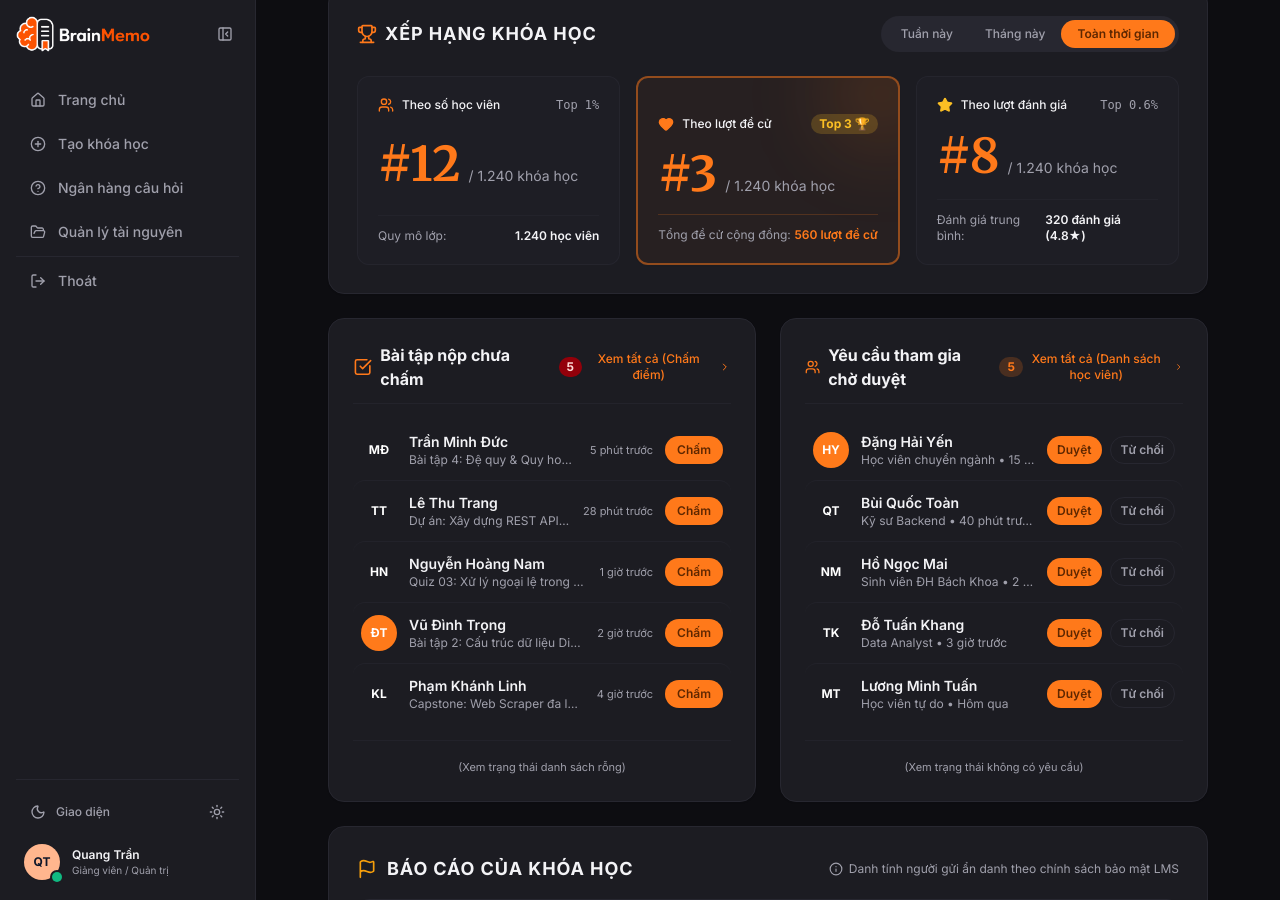
Test: Course Pages (SCR-CRS-01..03) › Course Overview: Tổng quan khóa học (/courses/:courseId/manage) › allows approving an enrollment request
(page scrolled)
Check: the text "Đặng Hải Yến" is shown, box [861, 433, 953, 450]
Click the button "Duyệt" next to "Học viên chuyển ngành • 15 phút trước". click: (1074, 450)
box: [1047, 436, 1102, 464]
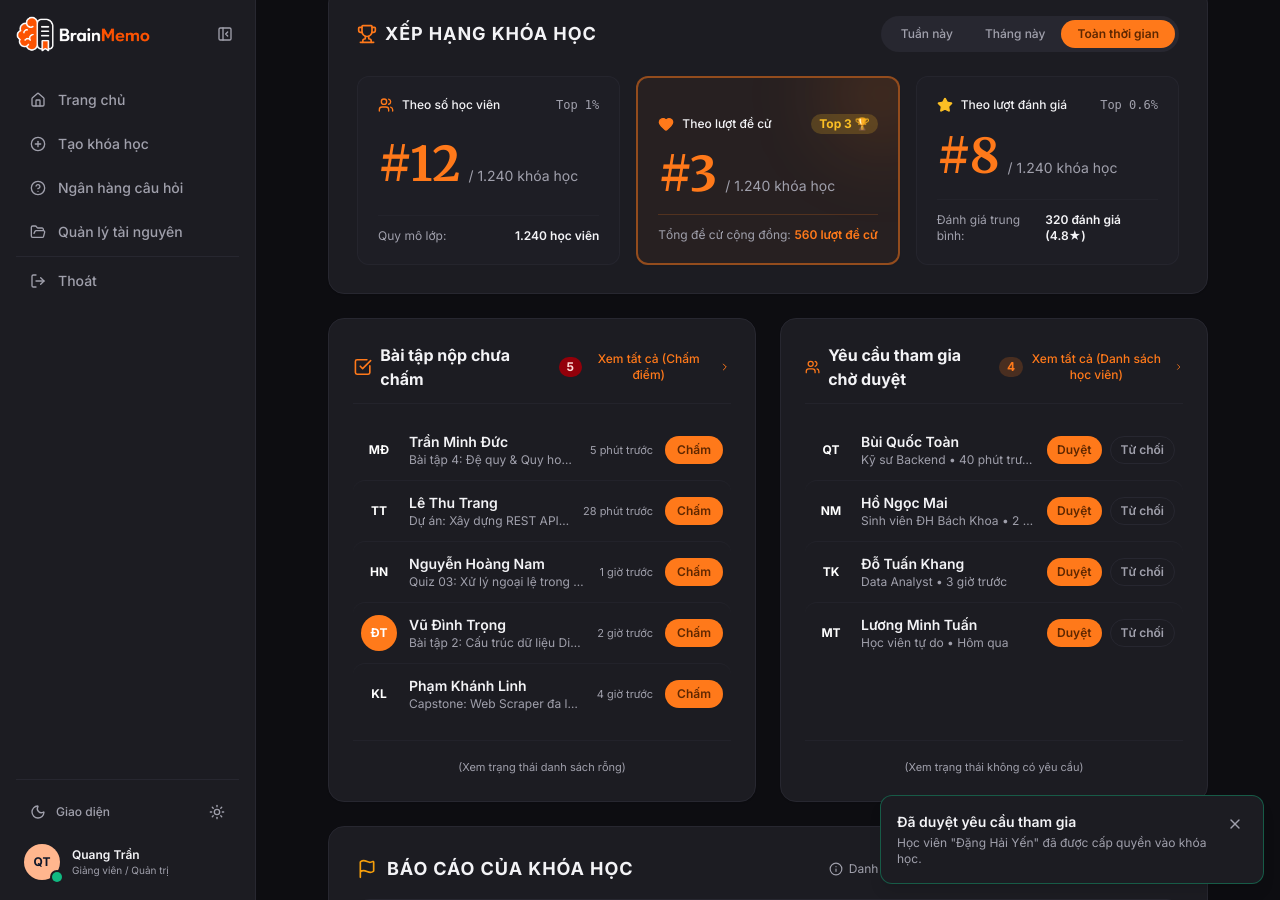
Check: the text "Đã duyệt yêu cầu tham gia" is shown, box [897, 813, 1076, 830]
